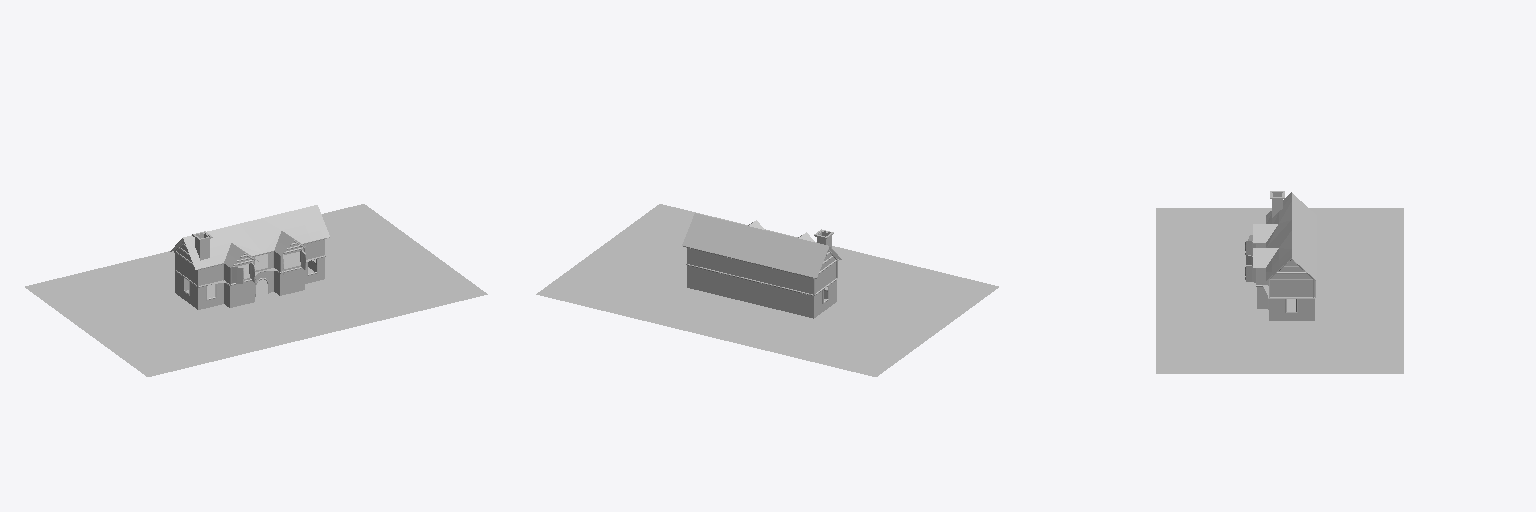
The model's file is Medieval house 2.obj.
3 views of the same model, side by side, from view 1: azimuth 30°, elevation 25°; view 2: azimuth 150°, elevation 25°; view 3: azimuth 270°, elevation 25° (orthographic).
Parts seen in each view (by area): view 1: Plane, Cube.003; view 2: Plane, Cube.003; view 3: Plane, Cube.003.
Boxes of the visible parts, x1,y1,x2,y2 form: Plane: [25, 204, 487, 376]; Cube.003: [170, 205, 329, 309]; Plane: [536, 204, 998, 376]; Cube.003: [682, 213, 841, 318]; Plane: [1156, 208, 1403, 373]; Cube.003: [1245, 191, 1316, 320].
Bounding box in the file's own units: 137 × 26.67 × 86.17.